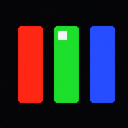1 square: (58, 31, 66, 39)
